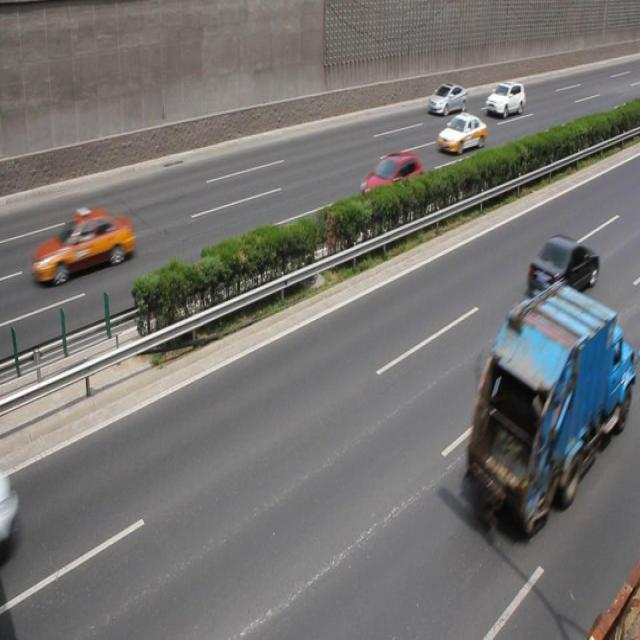bus: (463, 280, 640, 532)
car: (30, 204, 136, 282), (525, 230, 598, 309), (358, 149, 426, 216), (435, 111, 487, 153), (426, 82, 466, 119), (483, 83, 525, 118), (1, 474, 20, 548)
